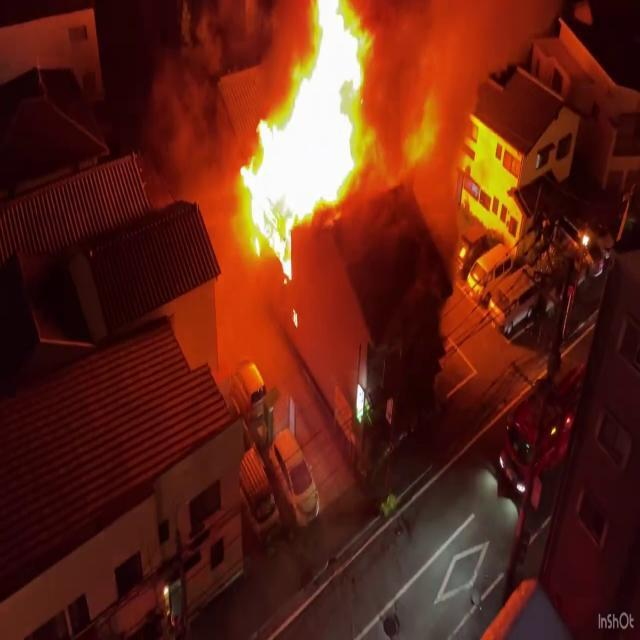Fire: (231, 0, 379, 267)
